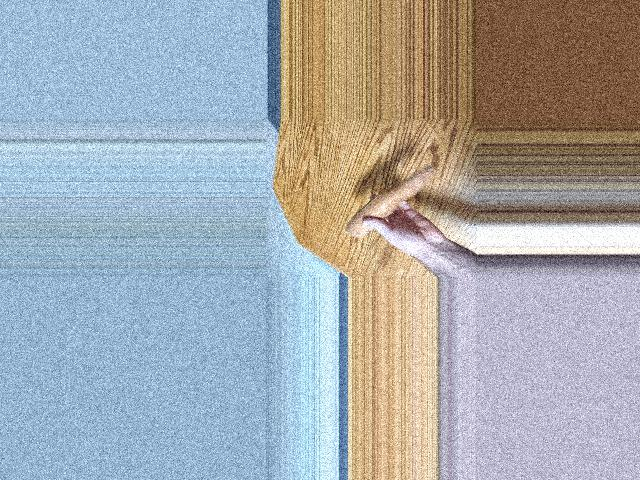sweet_potato: (353, 168, 434, 239)
